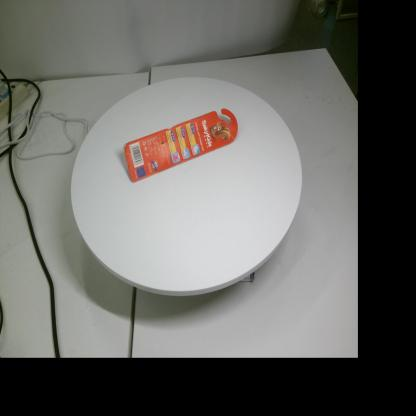Personal Hygiene: (123, 108, 238, 183)
